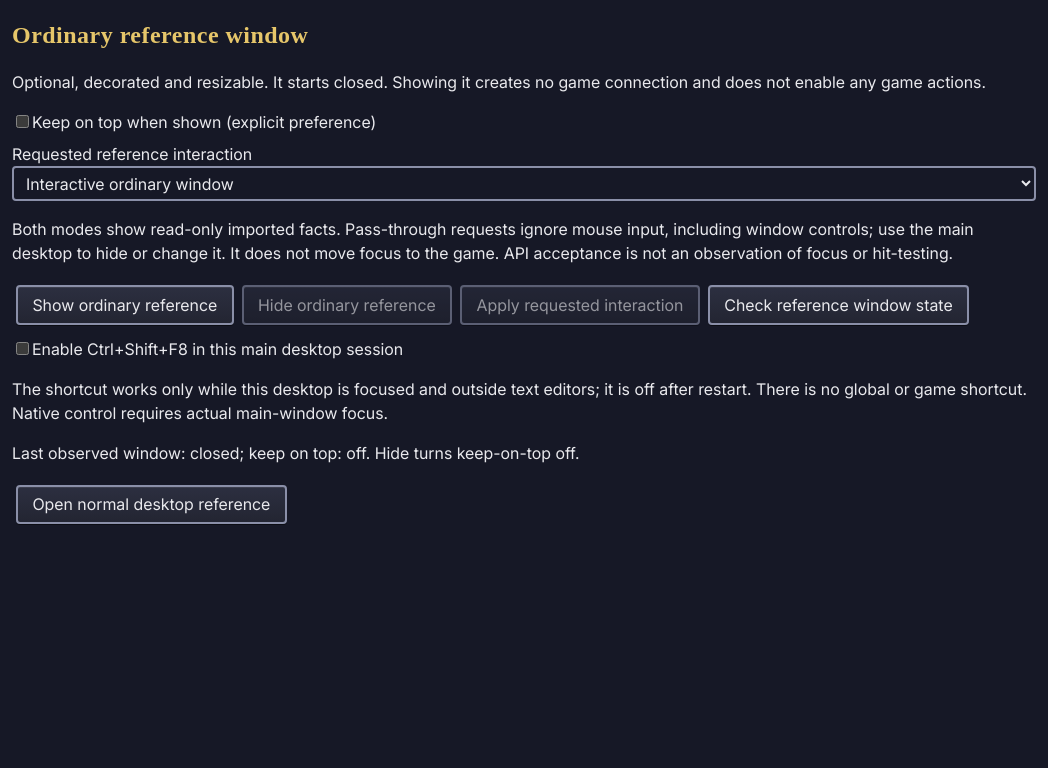
Test case: partial failure keeps observed visibility distinct and does not label interaction observed
Expected: the text "Last observed window: closed" is shown, [12,443,580,463]
Click the button "Show ordinary reference".
click(125, 305)  # box [16,285,234,325]
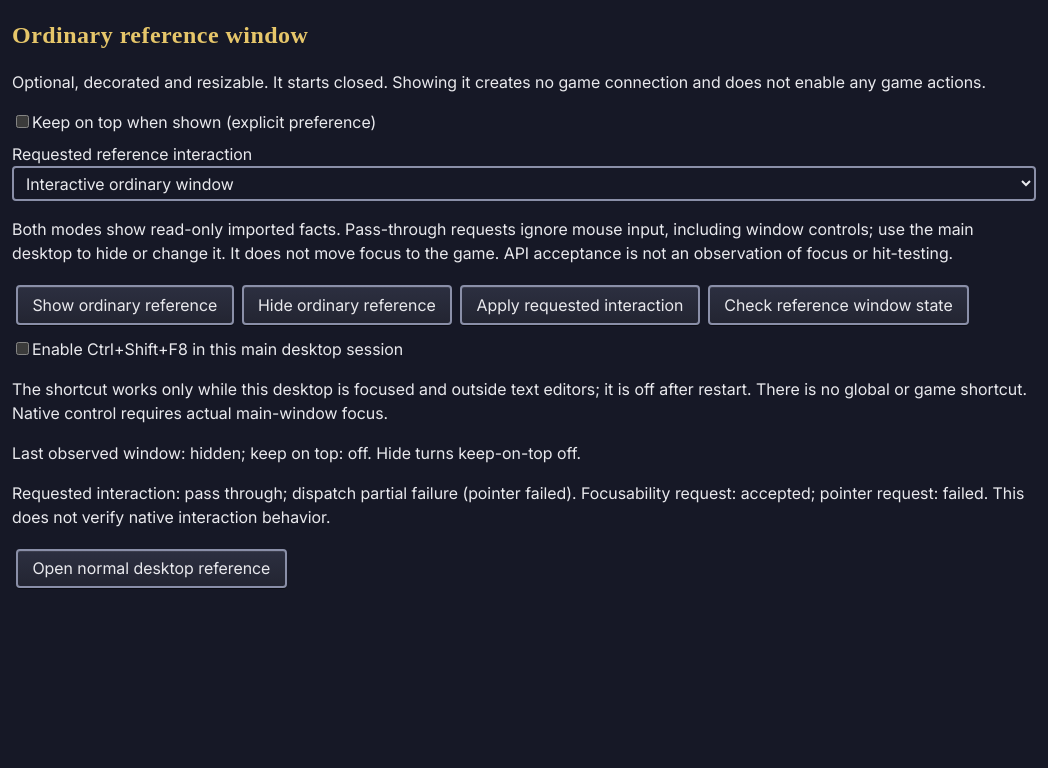
Now the text "Last observed window: hidden" is shown, box [12,443,581,463]
Now the text "pointer request: failed" is shown, box [12,481,1036,529]
